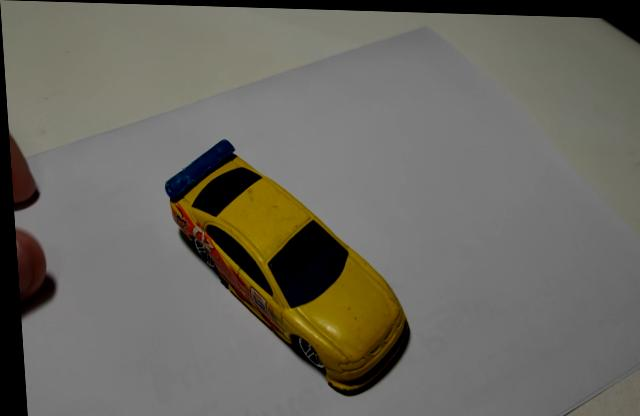02_OZSOME: (162, 140, 406, 396)
